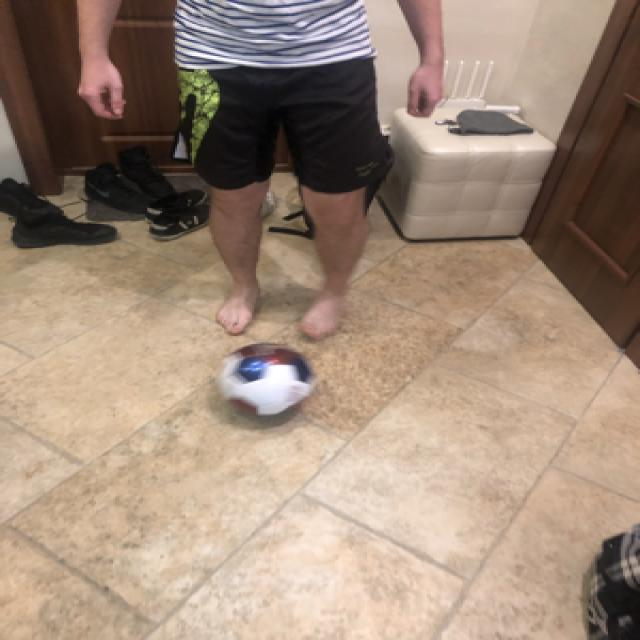soccer_ball: (213, 339, 314, 419)
